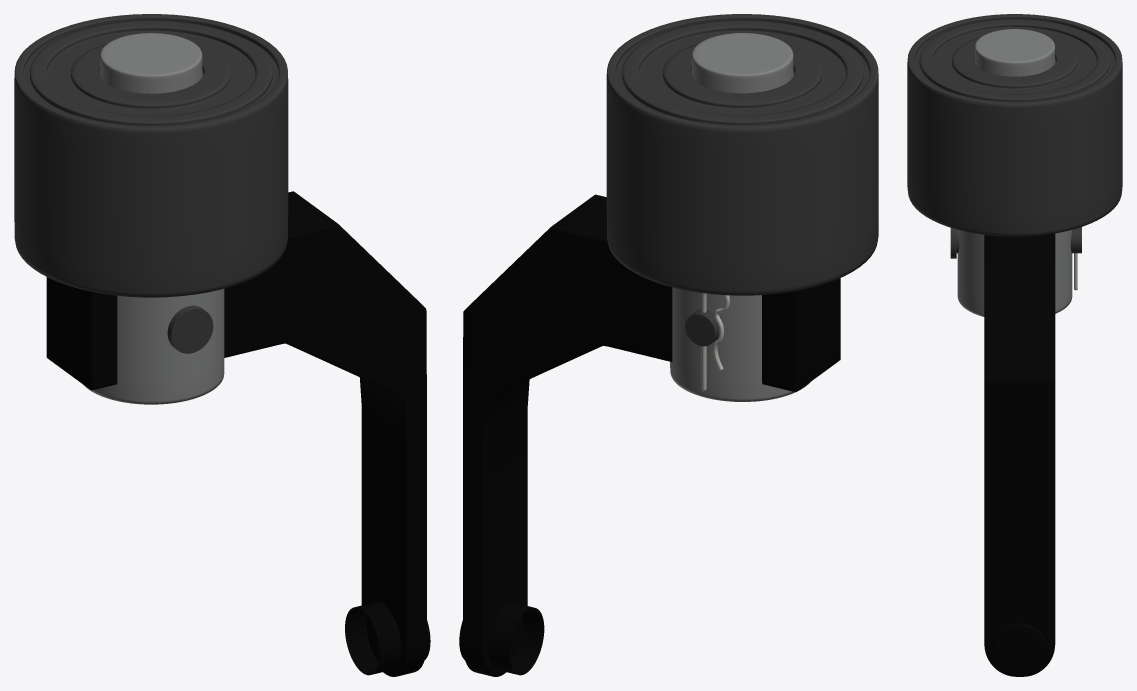
The model's file is portal_camera_arm.obj.
The picture shows the model from 3 angles, left to right: view 1: azimuth 30°, elevation 25°; view 2: azimuth 150°, elevation 25°; view 3: azimuth 270°, elevation 25°; orthographic projection. The views are drawn at different scales.
Parts seen in each view (by area): view 1: portal_camera_arm; view 2: portal_camera_arm; view 3: portal_camera_arm.
Boxes of the visible parts, x1,y1,x2,y2 form: portal_camera_arm: (14,14,430,676); portal_camera_arm: (459,14,878,676); portal_camera_arm: (907,14,1122,676).
Bounding box in the file's own units: 0.4129 × 0.6983 × 0.2552.
4 materials, 4 textured.
